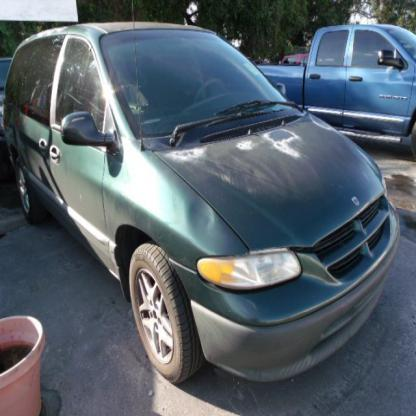Vehicle: (6, 22, 401, 386)
